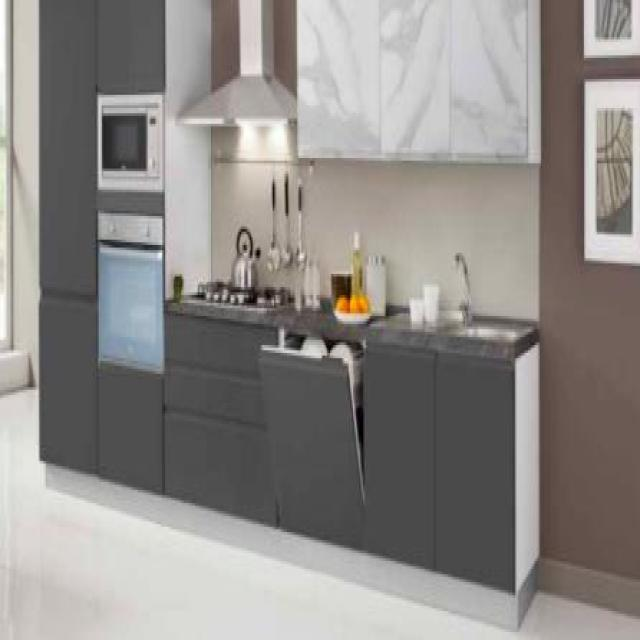dishwasher: (257, 318, 364, 550)
